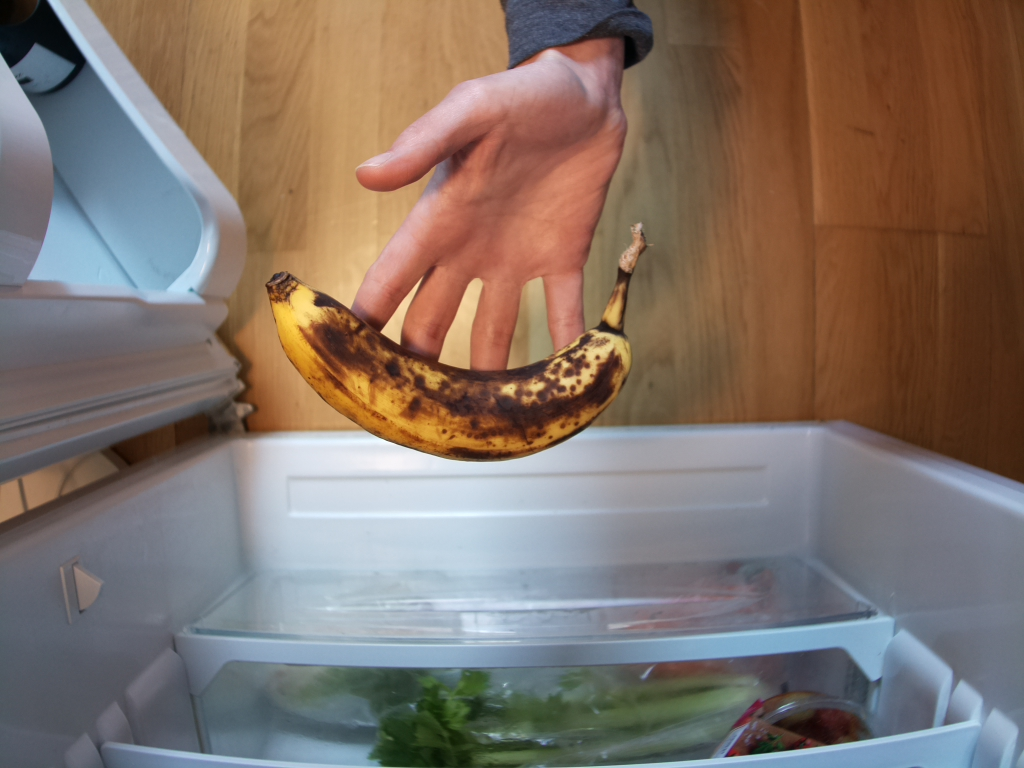banana-overripe: (263, 221, 647, 463)
